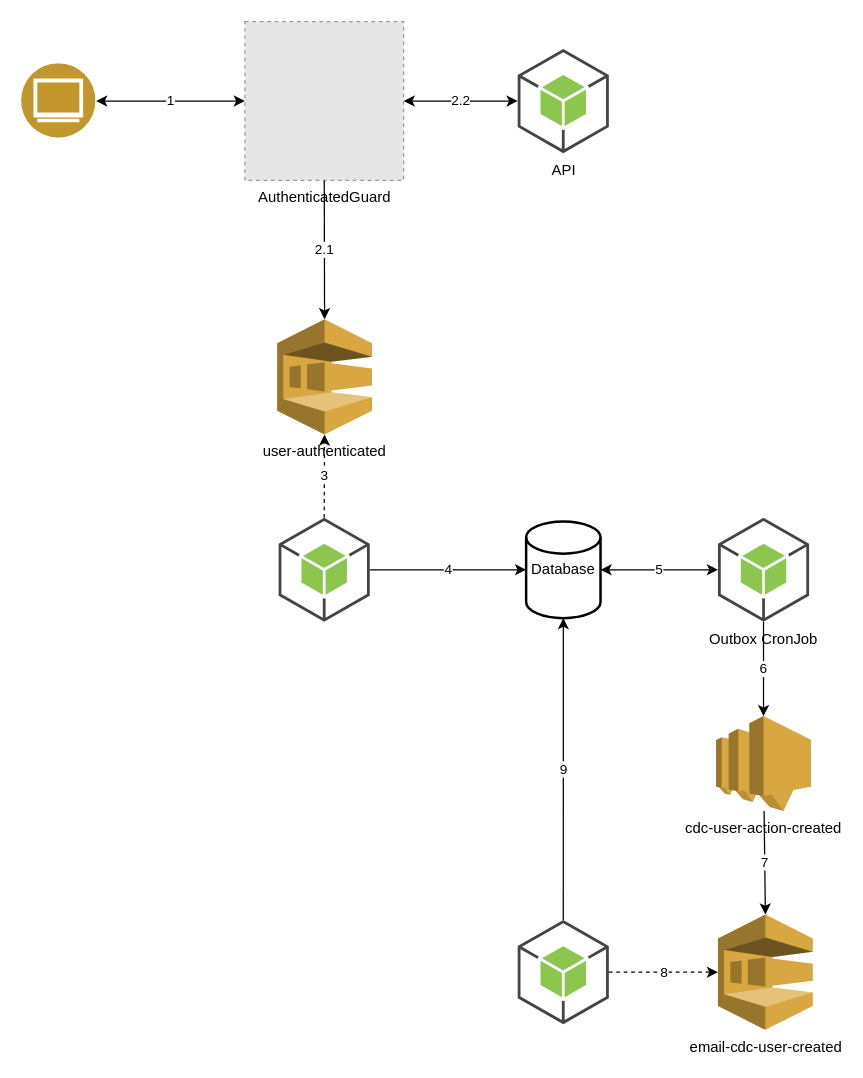
Image size: 863x1078. Some labels were removed from this diagram. Grey dashed boxes stand in for pictures. The box of each missing label's shape, as (x1, y1, x2, y2) in pixels:
Browser: (21, 63, 95, 138)
User Consumer: (516, 919, 609, 1024)
UserAction Consumer: (277, 516, 370, 622)
